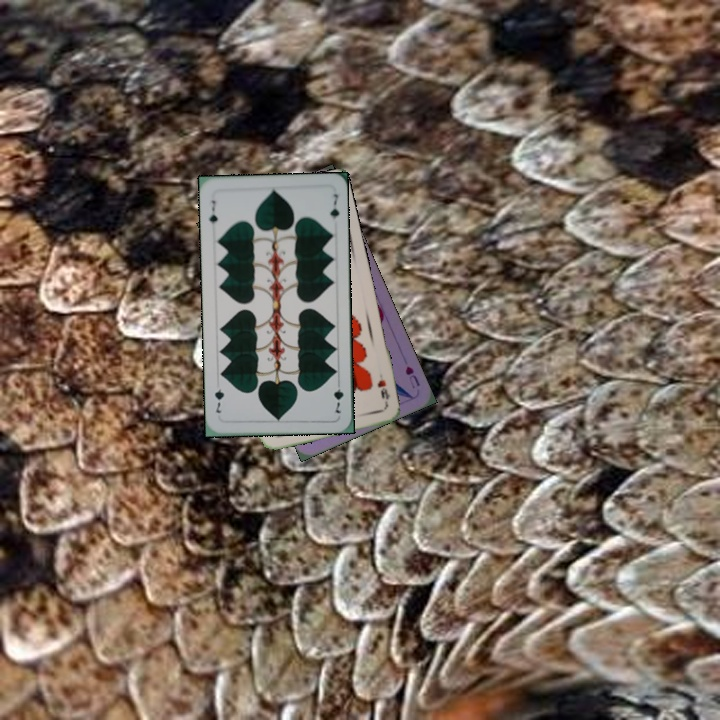G7: (330, 376, 346, 416), (205, 196, 220, 226)
H9: (373, 370, 393, 408)
HU: (401, 362, 423, 391)
